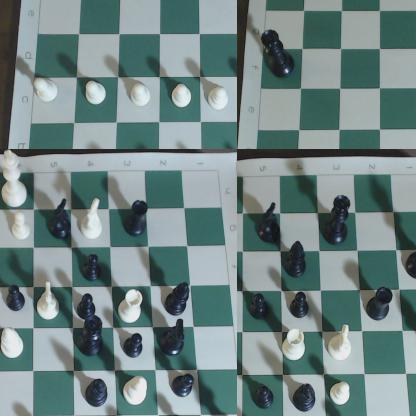black-bishop: (164, 280, 193, 320), (294, 380, 321, 416), (86, 376, 110, 412), (288, 239, 309, 280)
black-king: (407, 223, 416, 289)
black-knight: (163, 320, 193, 359), (51, 199, 73, 242), (256, 206, 280, 244)
black-pawn: (169, 370, 197, 403), (253, 383, 280, 416), (125, 331, 149, 367), (291, 290, 316, 322), (251, 291, 273, 324), (8, 282, 29, 315), (82, 254, 106, 281), (80, 292, 99, 320)
black-queen: (322, 193, 360, 252), (260, 26, 296, 84), (80, 317, 111, 364)
black-rook: (120, 201, 152, 243), (365, 286, 397, 326)
white-bishop: (1, 326, 30, 363), (121, 375, 151, 409)
white-king: (1, 150, 32, 210)
white-knight: (33, 279, 65, 328), (331, 322, 359, 364), (81, 202, 108, 241)
white-pawn: (76, 79, 113, 113), (28, 71, 61, 105), (127, 80, 160, 114), (326, 380, 359, 414), (9, 209, 35, 251), (170, 79, 199, 116), (208, 79, 237, 116)
white-rook: (283, 327, 314, 367), (117, 289, 147, 327)
